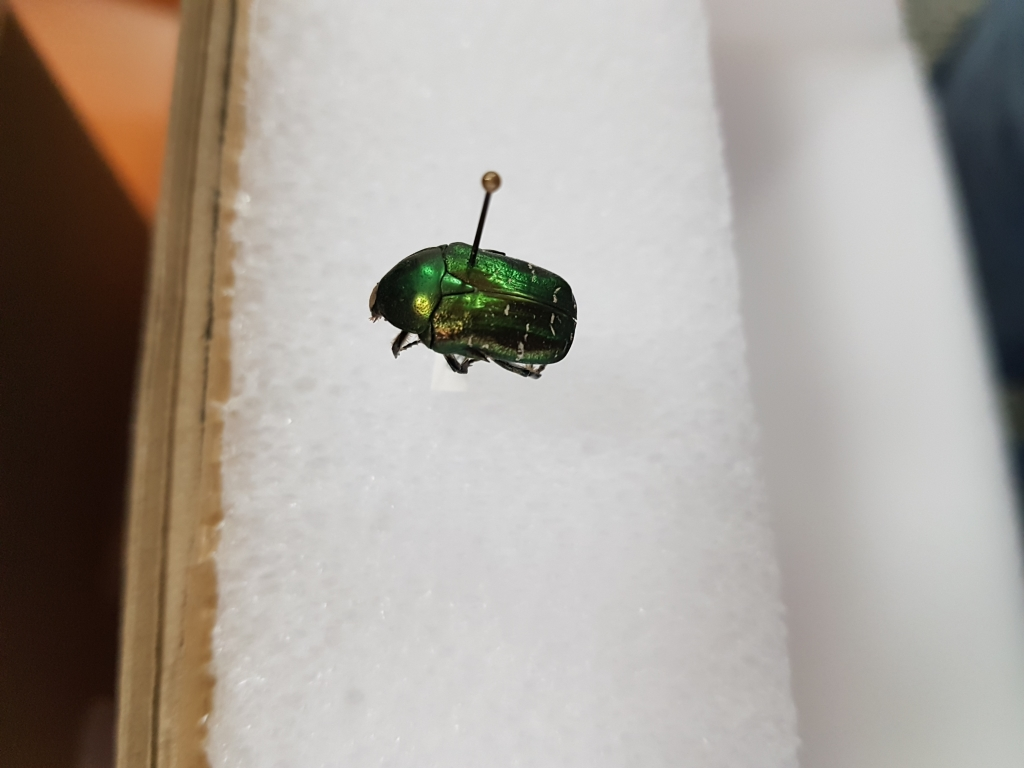Cetonia_kemali: (362, 232, 578, 391)
